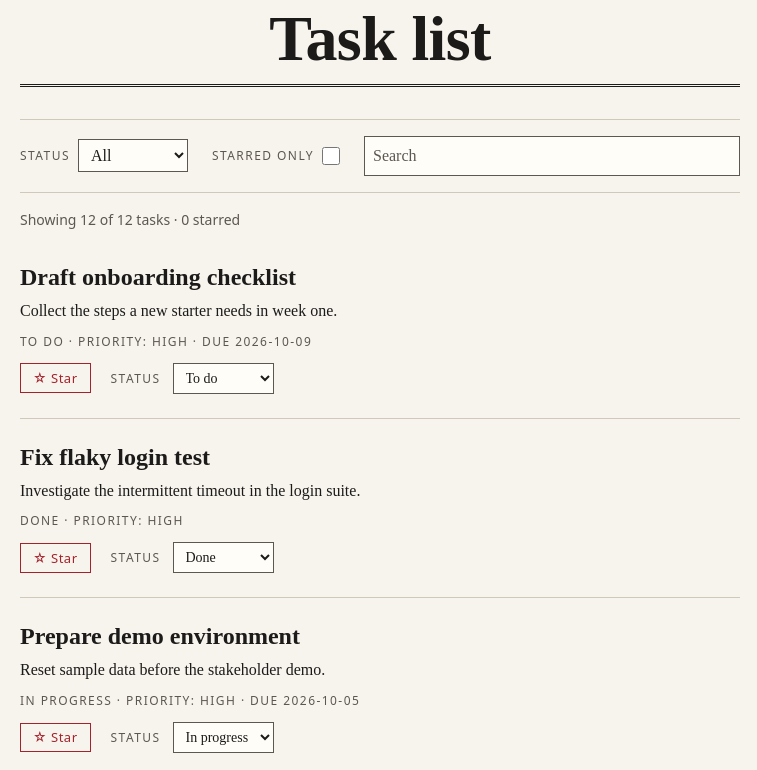
Test: App › removes an unstarred task immediately while 'Starred only' is ticked (AC4)
Click the button with aria-label "Star Draft onboarding checklist" at (55, 378), box [20, 364, 91, 393]
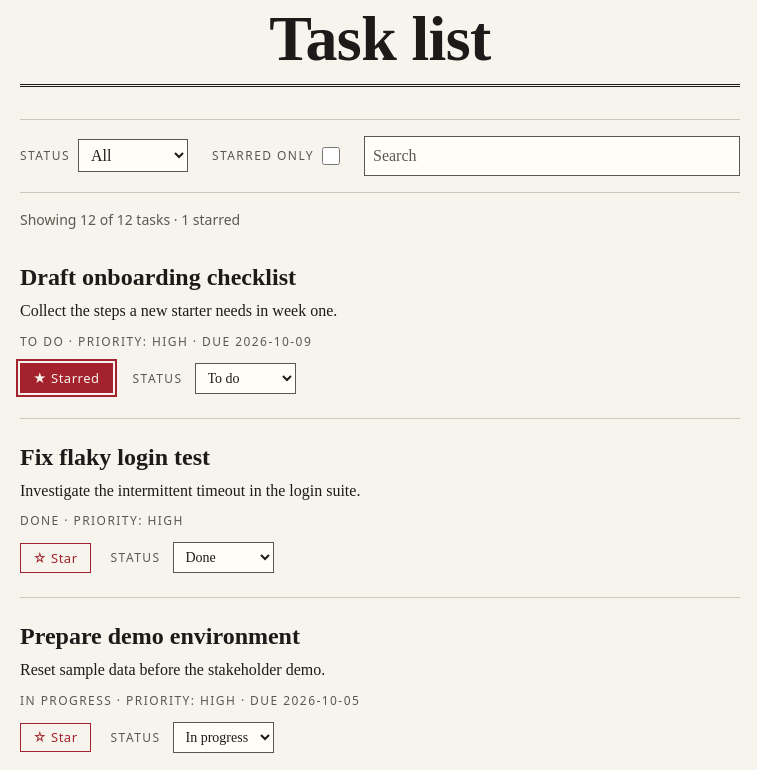
Click the checkbox labelled "Starred only" at (331, 156), box [322, 147, 340, 165]
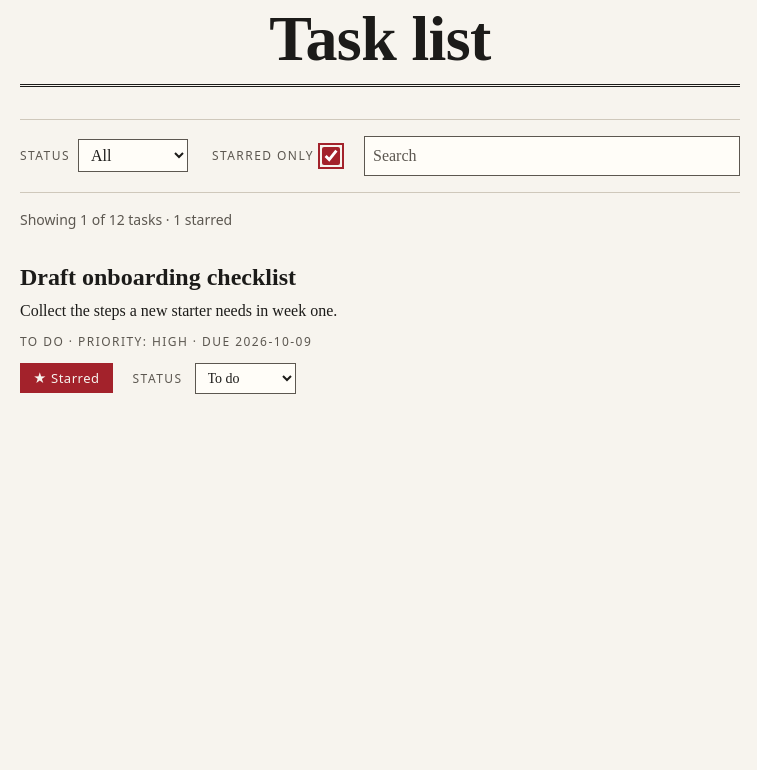
Check: the list named "Tasks" is shown, box [20, 264, 437, 394]
Click the button with aria-label "Unstar Draft onboarding checklist" at (66, 378), box [20, 364, 113, 393]
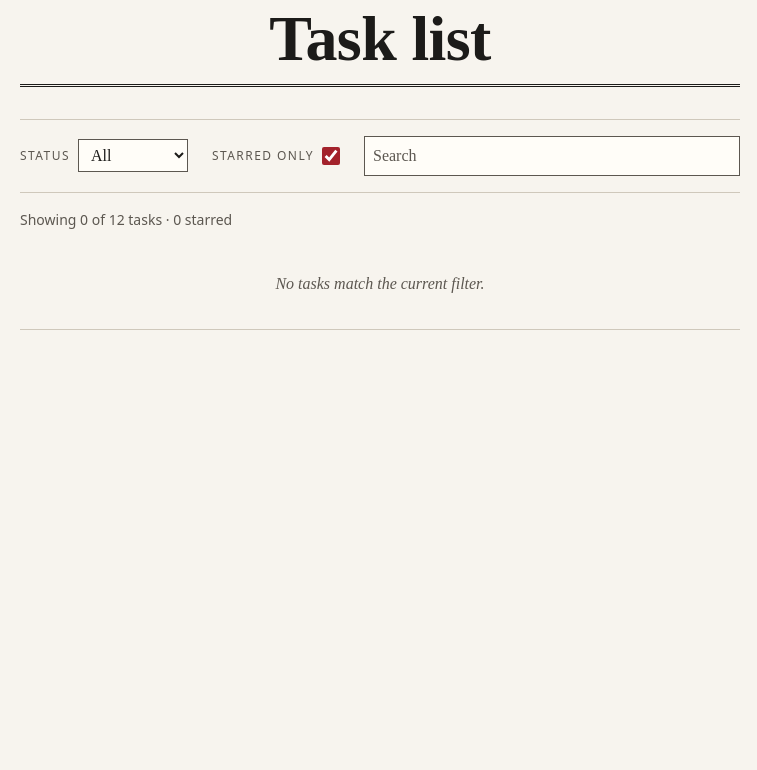
Check: the message reads "No tasks match the current filter.", box [275, 275, 485, 292]
